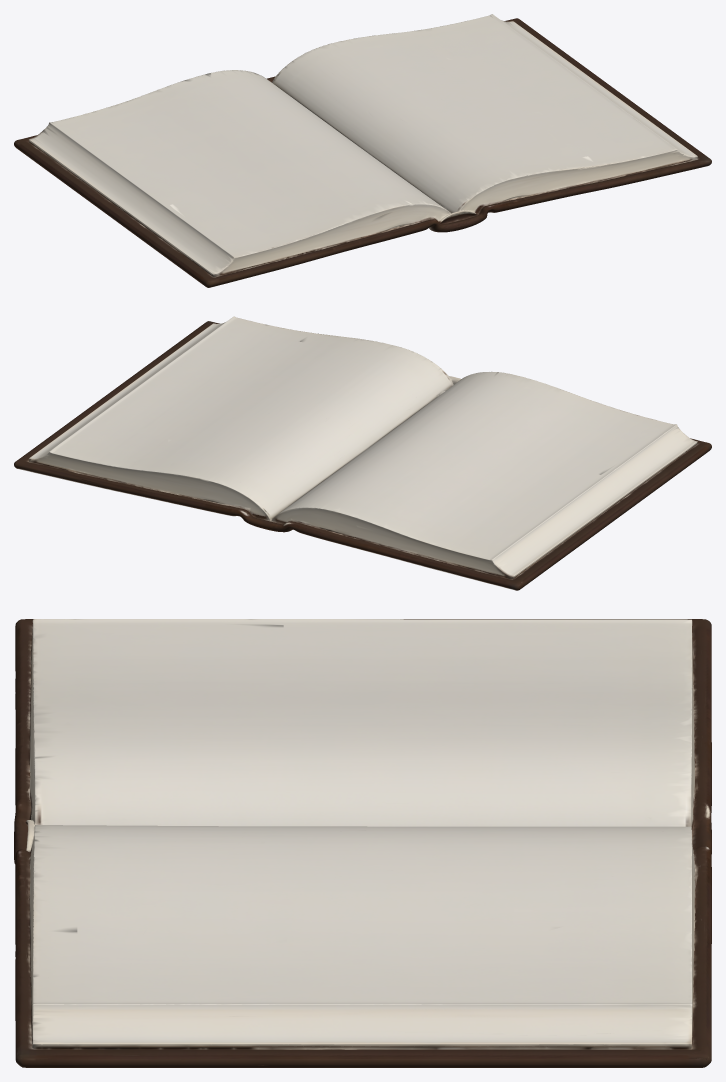
The model's file is study-book.glb.
The picture shows the model from 3 angles, top to bottom: view 1: azimuth 30°, elevation 25°; view 2: azimuth 150°, elevation 25°; view 3: azimuth 270°, elevation 25°; orthographic projection. The views are drawn at different scales.
Visible parts, largest first — view 1: node_0; view 2: node_0; view 3: node_0.
Part boxes in pixels (x1,y1,x2,y2): node_0: (14, 14, 711, 287); node_0: (14, 316, 711, 590); node_0: (14, 619, 711, 1067).
Bounding box in the file's own units: 1 × 0.0688 × 0.6714.
Materials: 1 (1 with a texture image).
